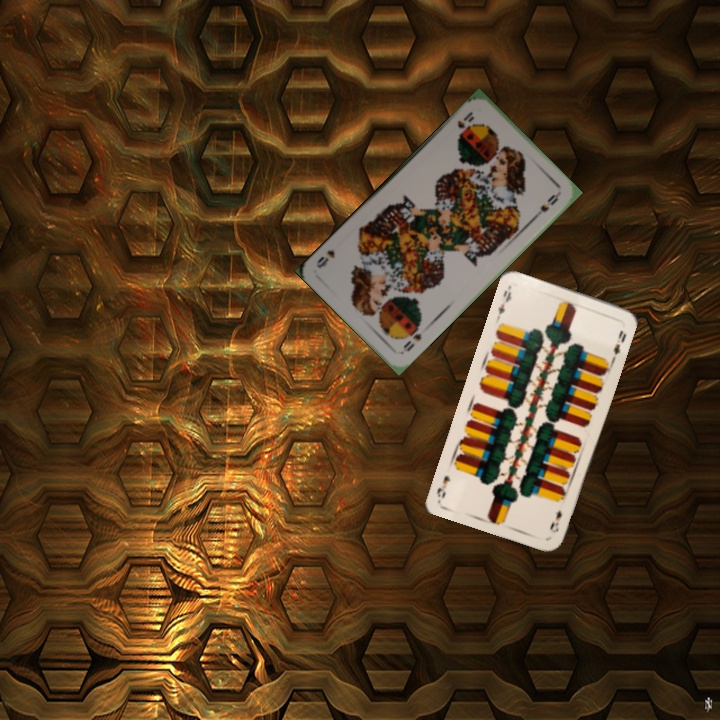E9: (492, 283, 514, 322), (546, 506, 565, 535)
SO: (453, 107, 477, 138), (399, 329, 424, 354)
